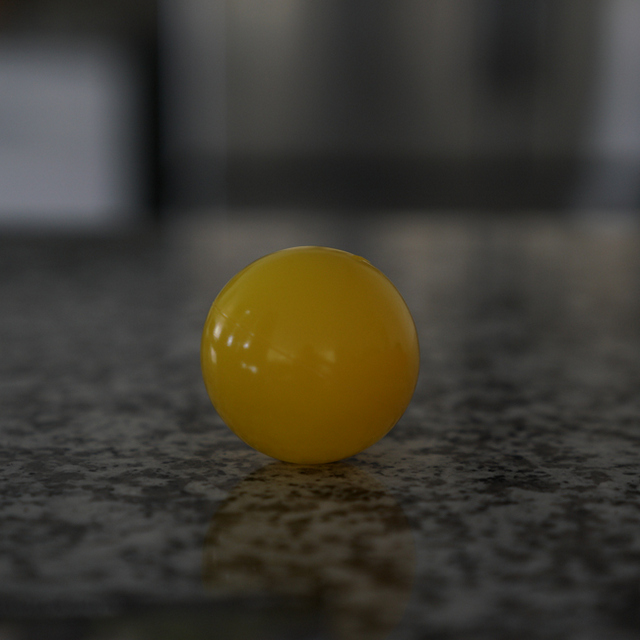Ball: (192, 243, 422, 469)
